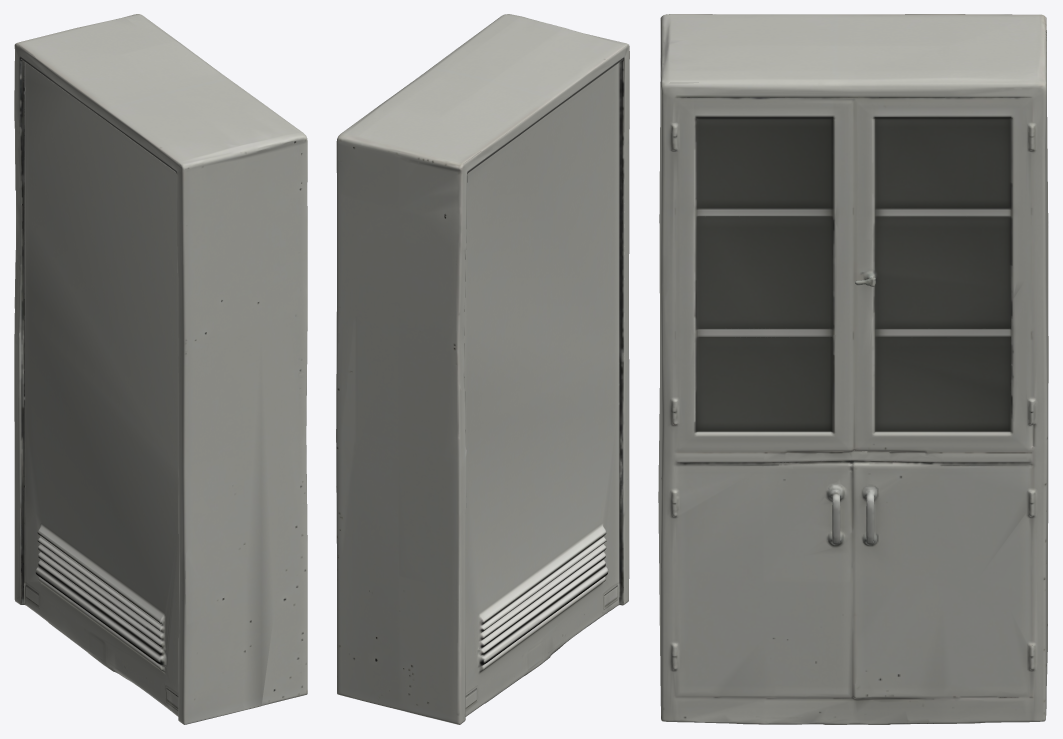
Rendered from repaired.glb.
3 renders of one model, left to right at view 1: azimuth 30°, elevation 25°; view 2: azimuth 150°, elevation 25°; view 3: azimuth 270°, elevation 25°, orthographic. The views are drawn at different scales.
Parts seen in each view (by area): view 1: repaired; view 2: repaired; view 3: repaired.
Boxes of the visible parts, x1,y1,x2,y2 form: repaired: (14,14,307,724); repaired: (336,14,629,724); repaired: (658,14,1048,724).
Size of the model in its own units: 0.2584 by 0.9995 by 0.5482.
1 material, 1 textured.
